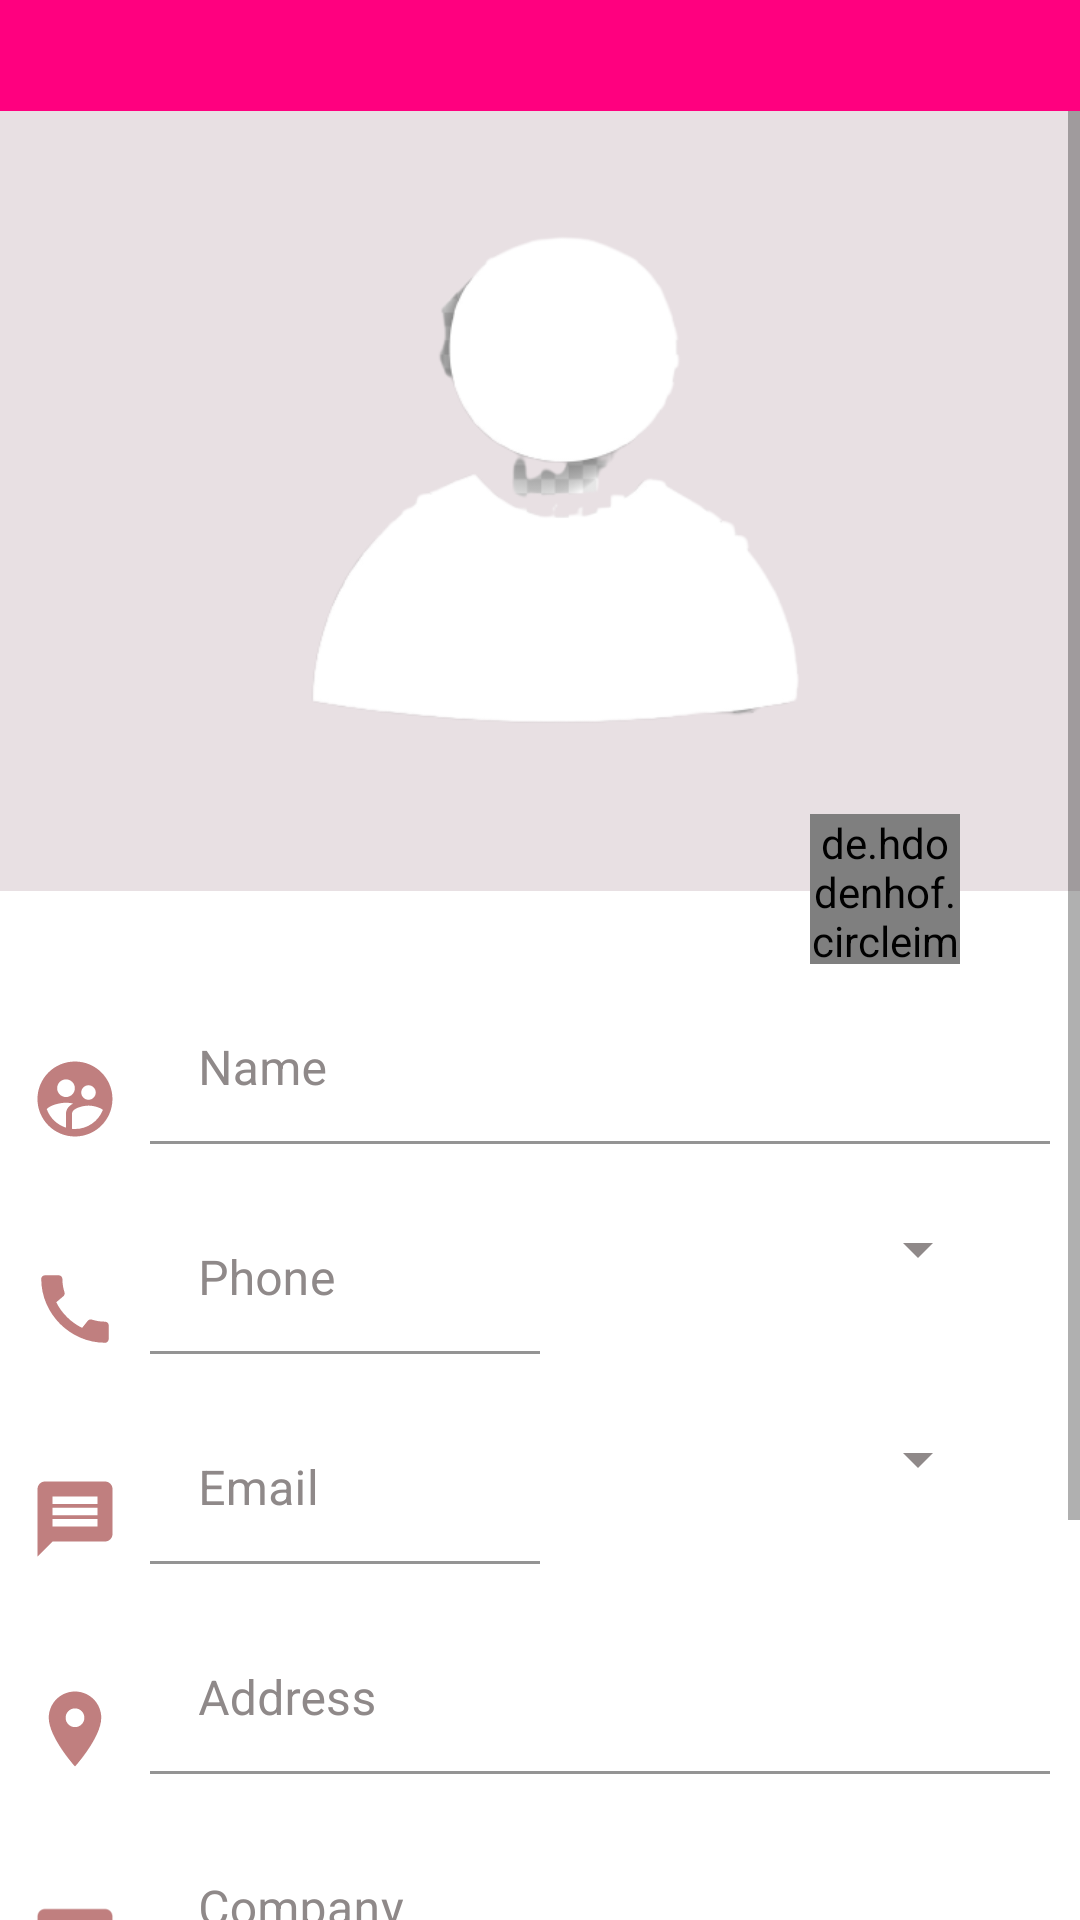

Icon click points for this 1080 × 1920 phone screenshot, format [x,y]:
call: [75,1309]
message: [75,1518]
user circle: [75,1099]
